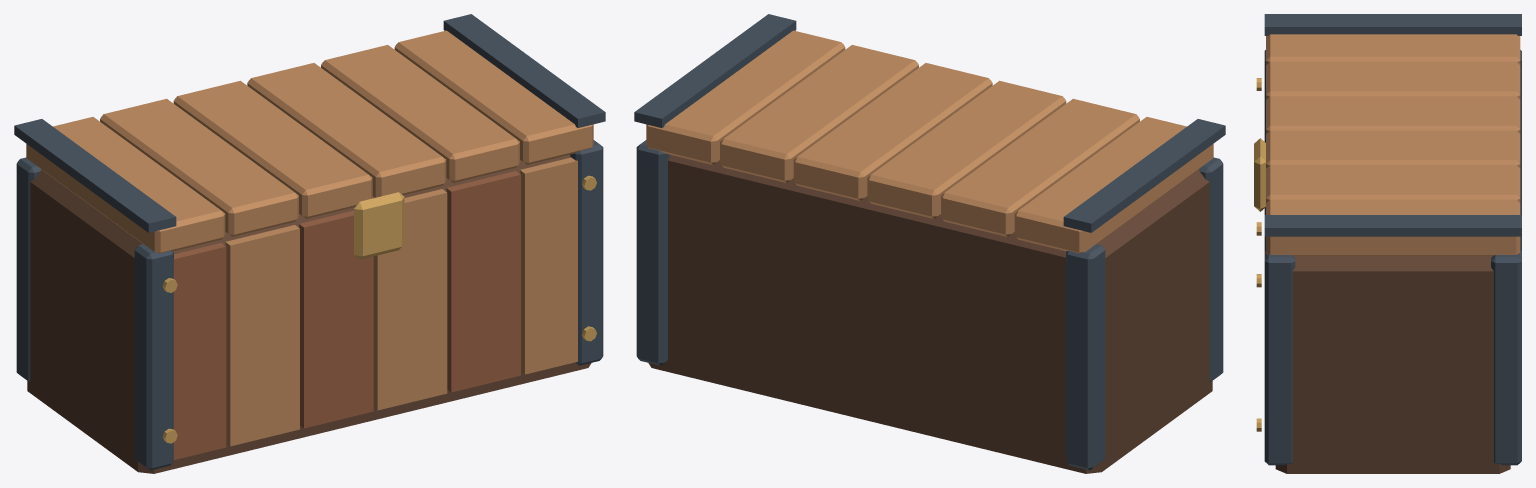
The model's file is shipping_bin.glb.
3 renders of one model, left to right at view 1: azimuth 30°, elevation 25°; view 2: azimuth 150°, elevation 25°; view 3: azimuth 270°, elevation 25°, orthographic. The views are drawn at different scales.
Parts seen in each view (by area): view 1: shipping_bin_建筑共用调色板; view 2: shipping_bin_建筑共用调色板; view 3: shipping_bin_建筑共用调色板.
Boxes of the visible parts, x1,y1,x2,y2 form: shipping_bin_建筑共用调色板: [14, 14, 605, 473]; shipping_bin_建筑共用调色板: [634, 14, 1225, 473]; shipping_bin_建筑共用调色板: [1254, 14, 1521, 473].
Size of the model in its own units: 1.81 by 0.9735 by 0.9575.
1 material, 1 textured.
